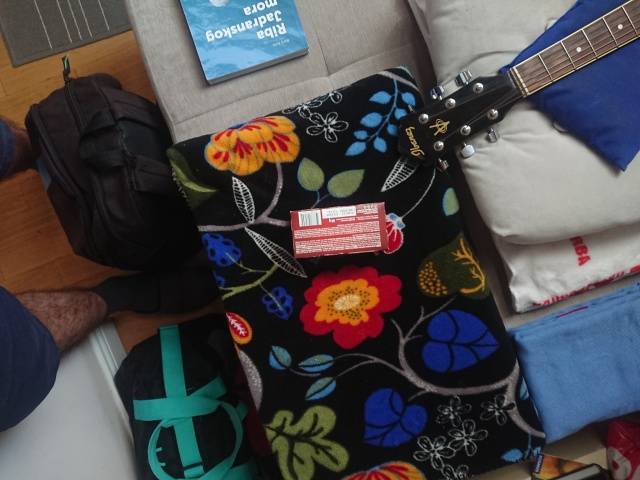Franck Apple Cinnamon Tea 60g: (288, 200, 390, 259)
